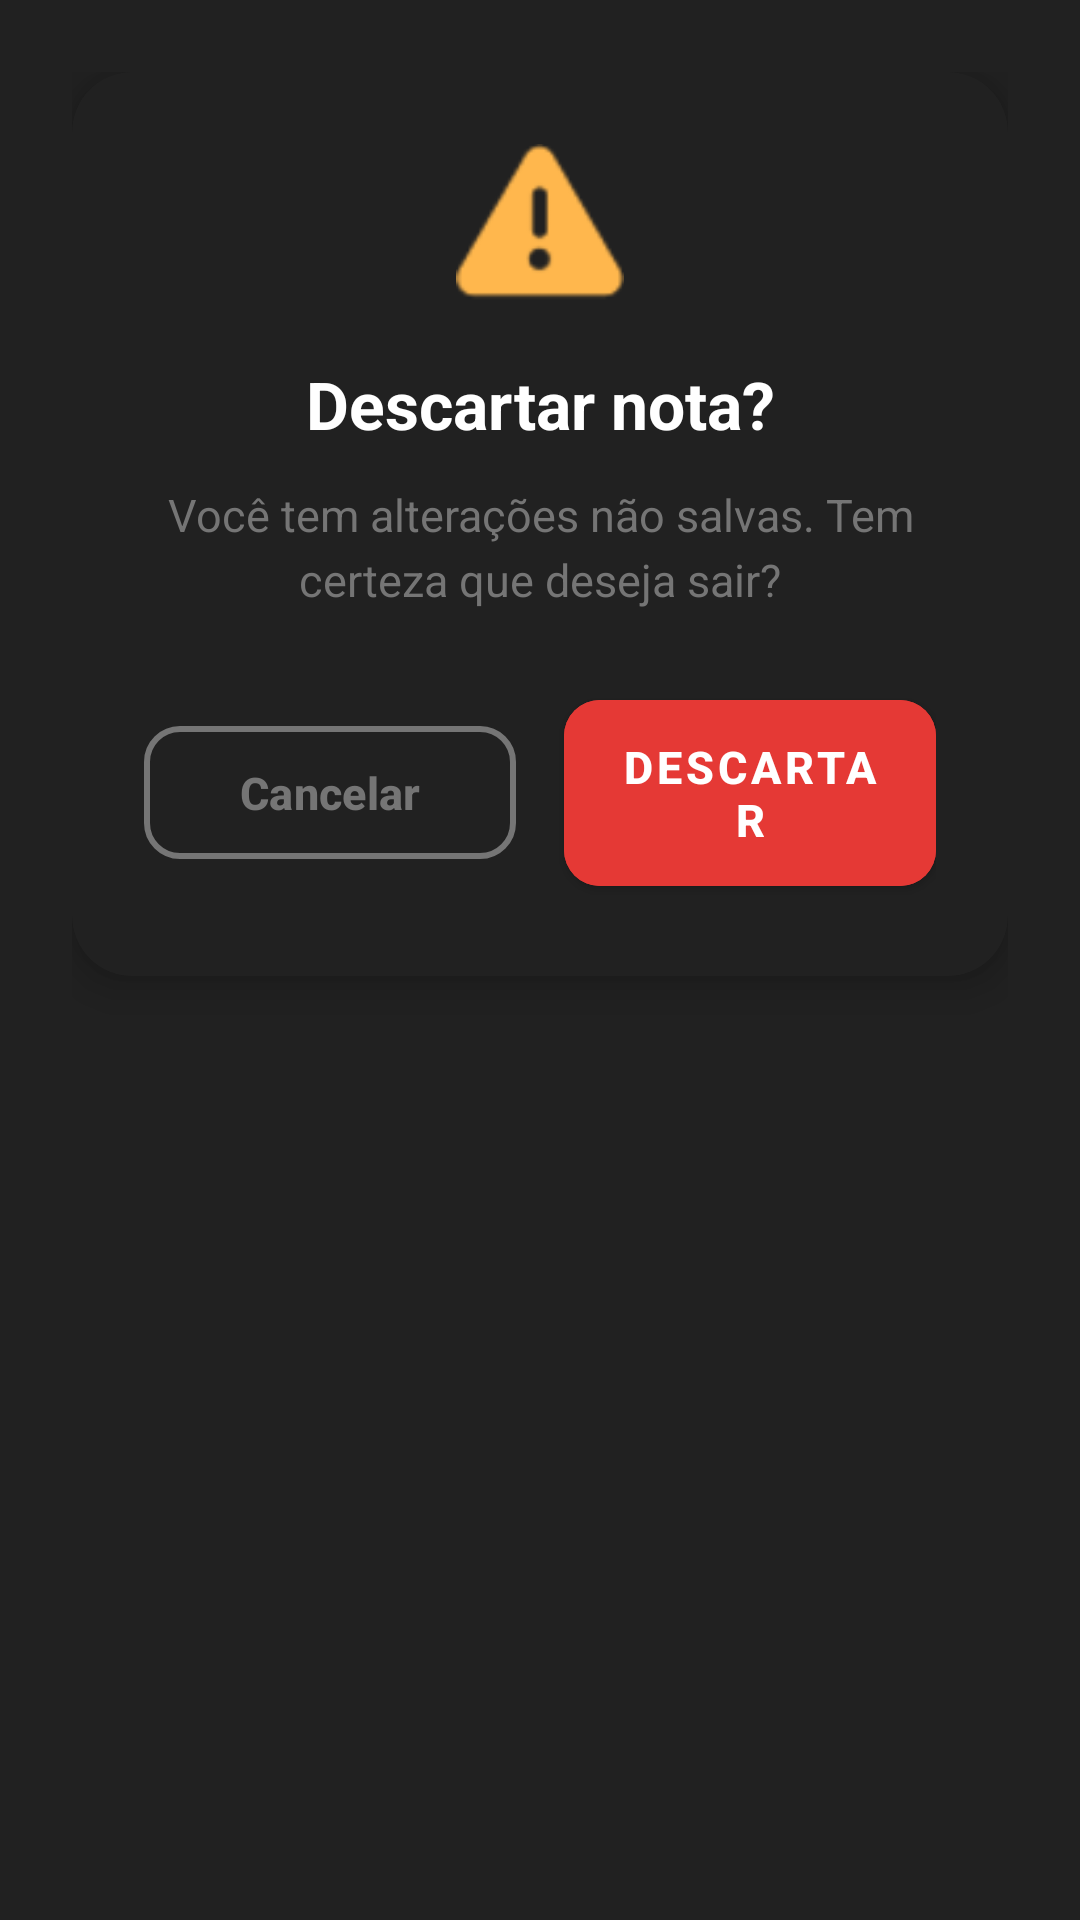

Named icons in this screenshot (1080w x 1920h) and their bounding boxes, (x1, y1, x2, y2):
Alerta: (456, 144, 624, 297)
